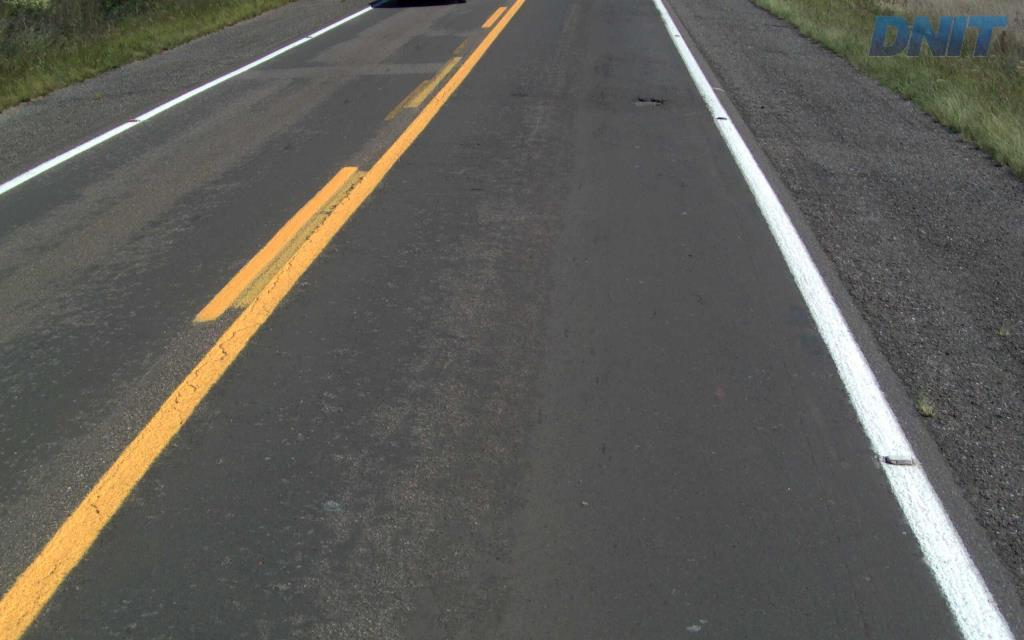pothole: (629, 97, 665, 108)
